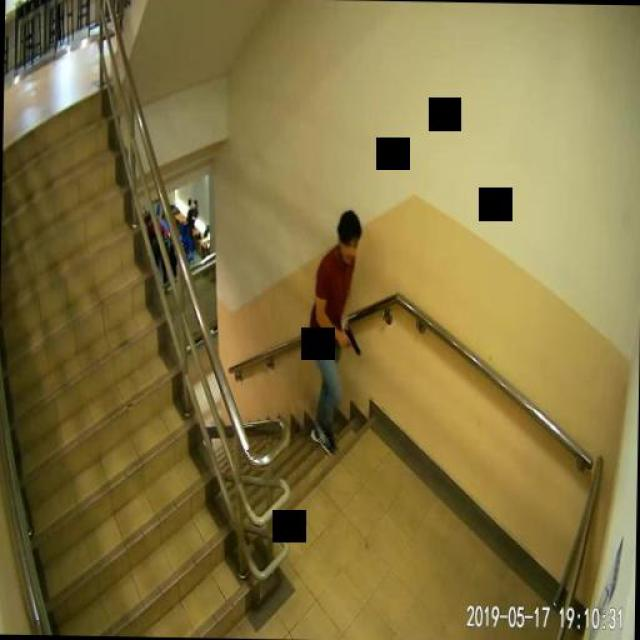gun: (340, 325, 360, 354)
